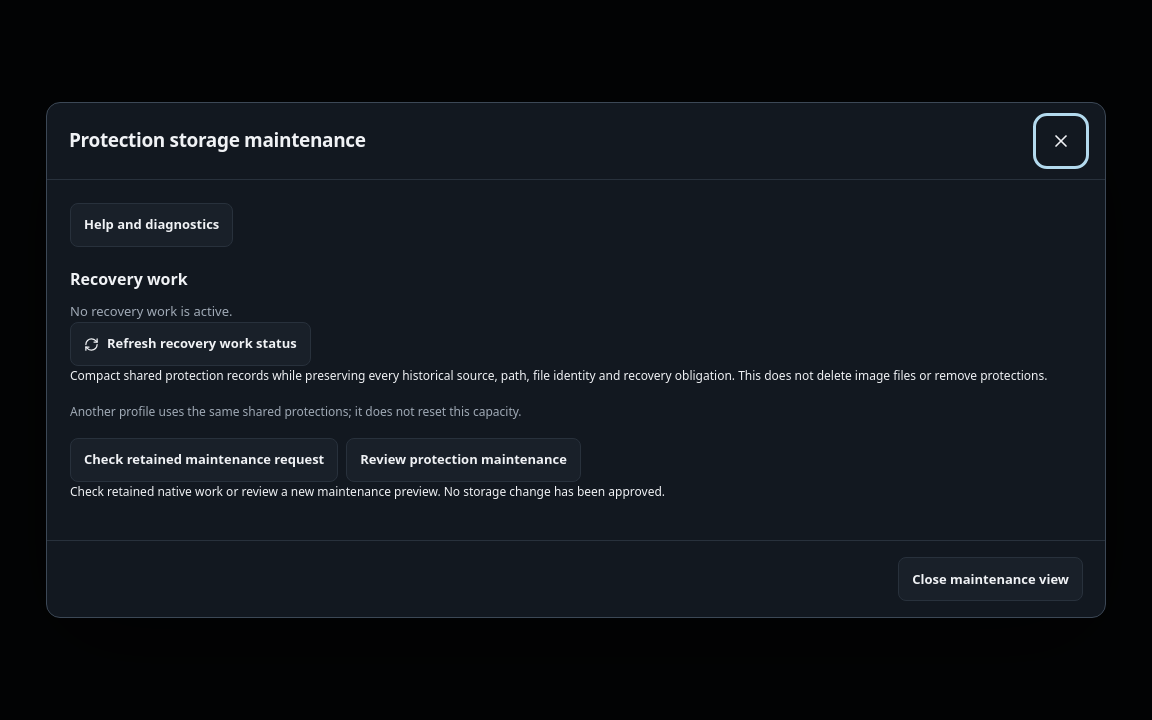
it: requires explicit review and sends only the native UUID, preserving bounds and reserves
Click the button "Review protection maintenance": (464, 460) x1=346 y1=438 x2=581 y2=482
(page scrolled)
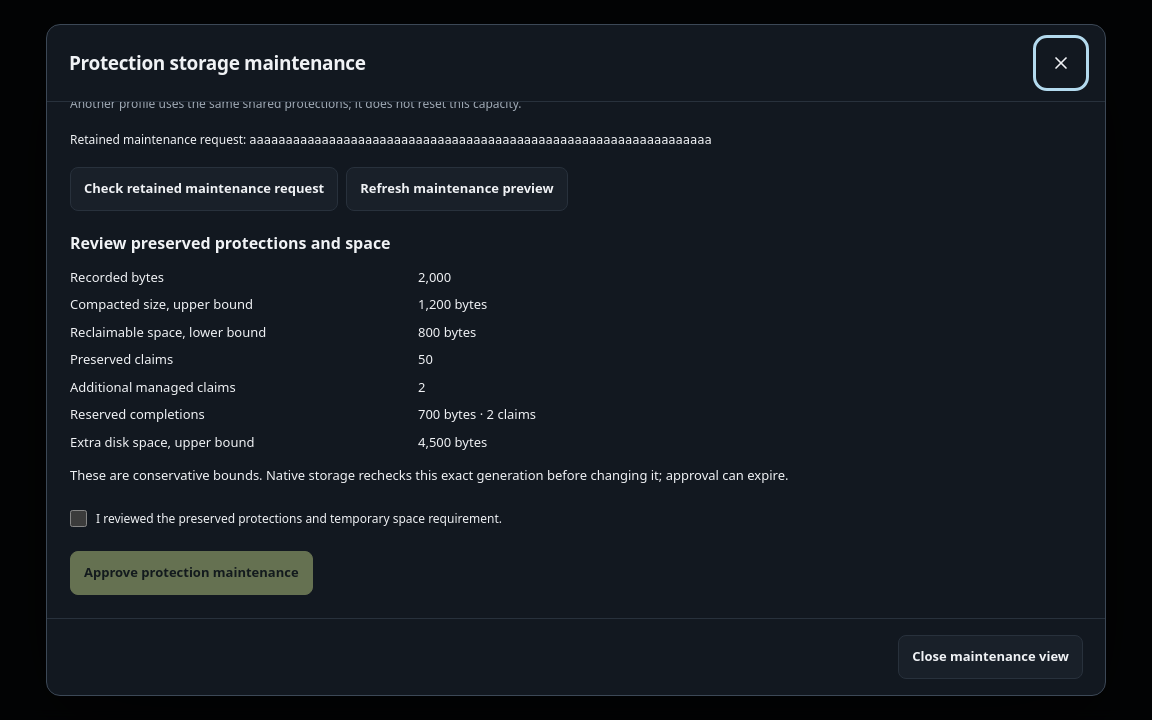
Expected: the element named "Protection maintenance preview" is shown, x1=70 y1=232 x2=788 y2=595
Expected: the text "4,500 bytes" is shown, x1=418 y1=433 x2=487 y2=451
Expected: the text "700 bytes · 2 claims" is shown, x1=418 y1=405 x2=536 y2=423
Click the checkbox labelled "I reviewed the preserved protections": (78, 519) x1=70 y1=510 x2=87 y2=527
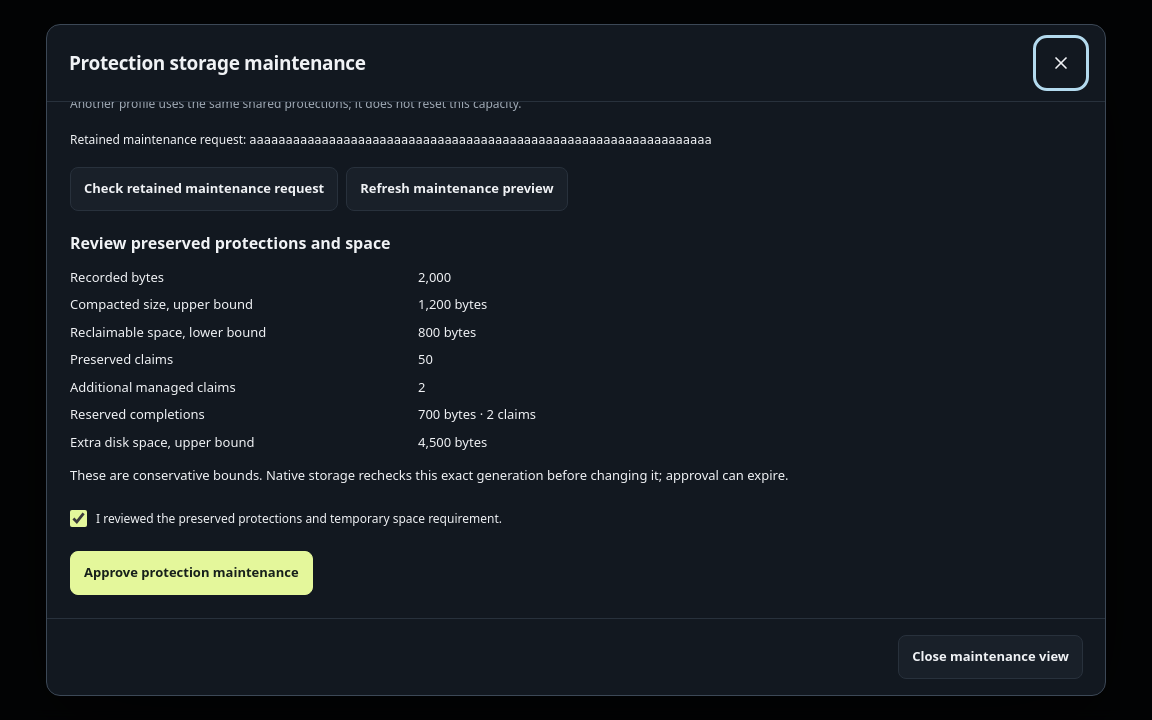
Expected: the button "Approve protection maintenance" is enabled
Click the button "Approve protection maintenance": (191, 573) x1=70 y1=551 x2=313 y2=595
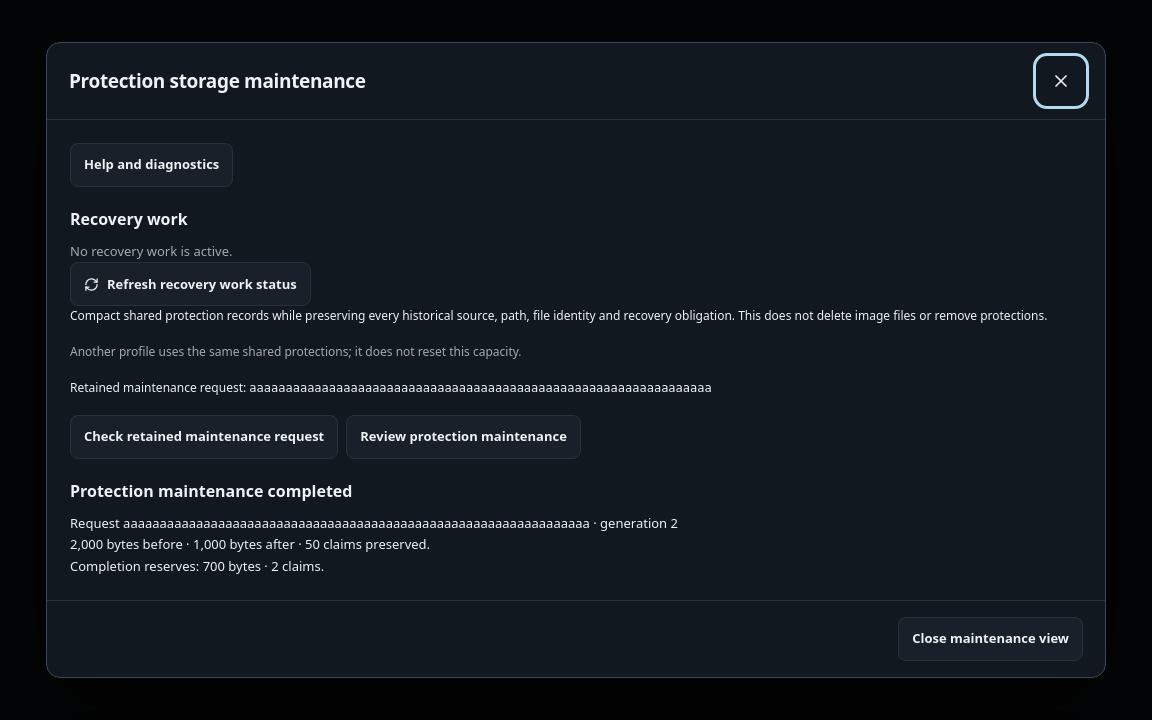
Expected: the heading "Protection maintenance completed" is shown, x1=70 y1=480 x2=352 y2=502
